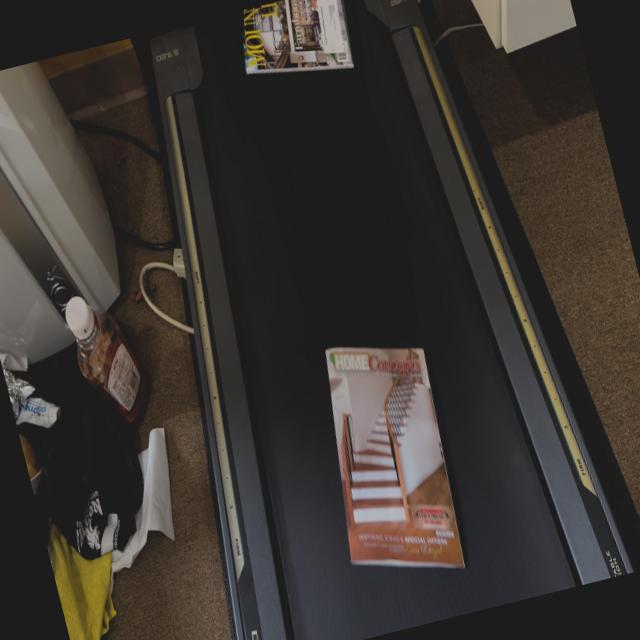Recycle: (299, 324, 479, 598), (229, 0, 362, 95)
